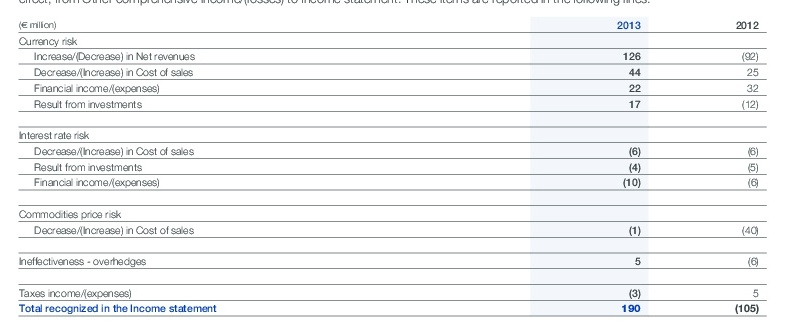table: (0, 0, 789, 331)
